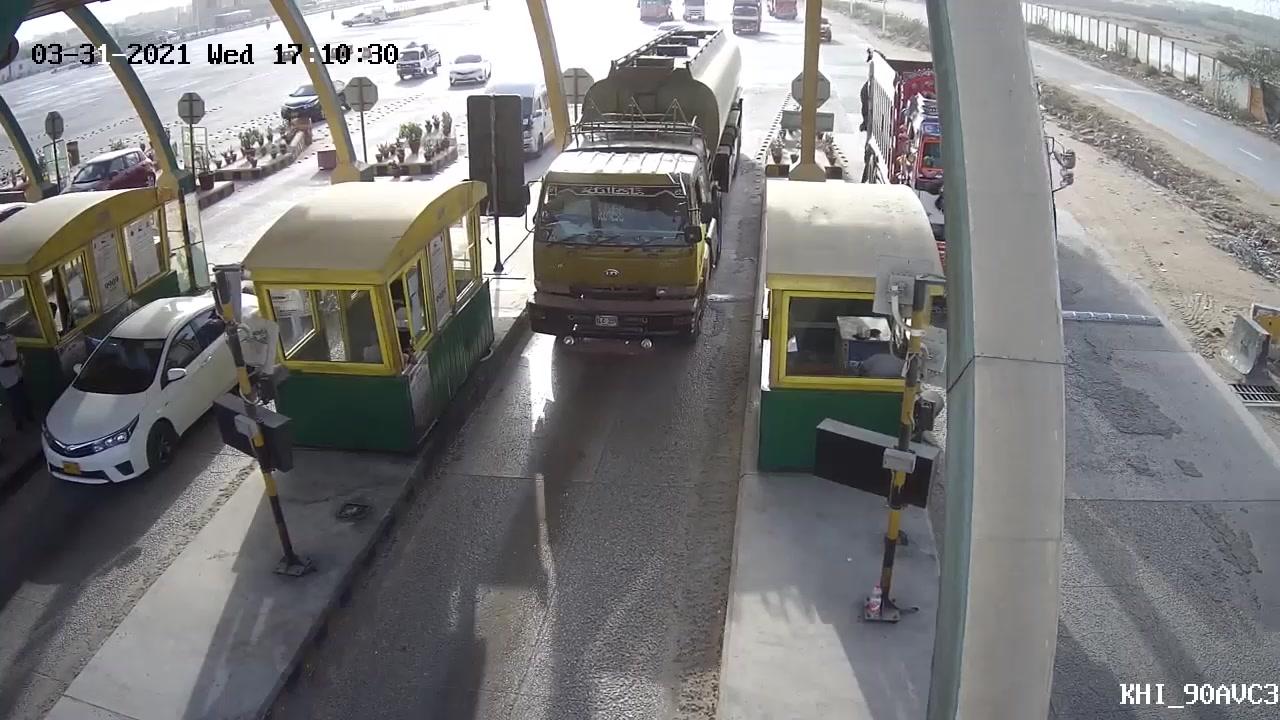F5: (511, 46, 740, 366)
